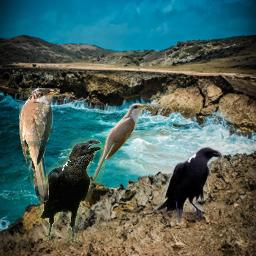Crow: (38, 137, 104, 245), (152, 145, 223, 226)
Cuckoo: (90, 103, 149, 185), (19, 88, 60, 202)
